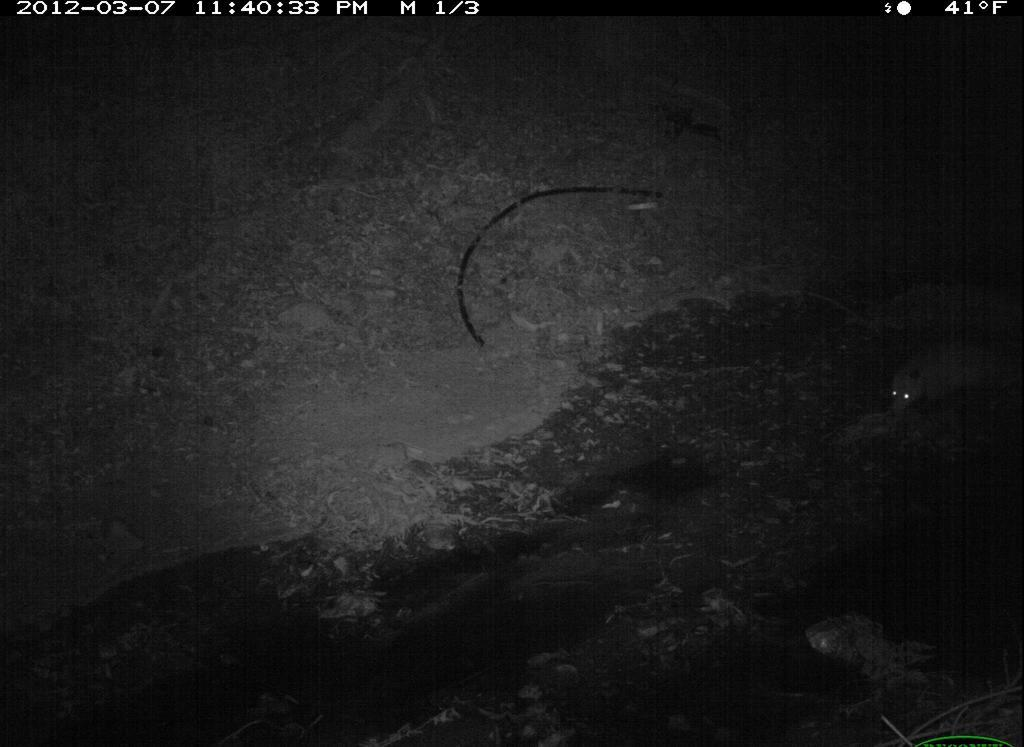opossum: (894, 321, 1023, 424)
